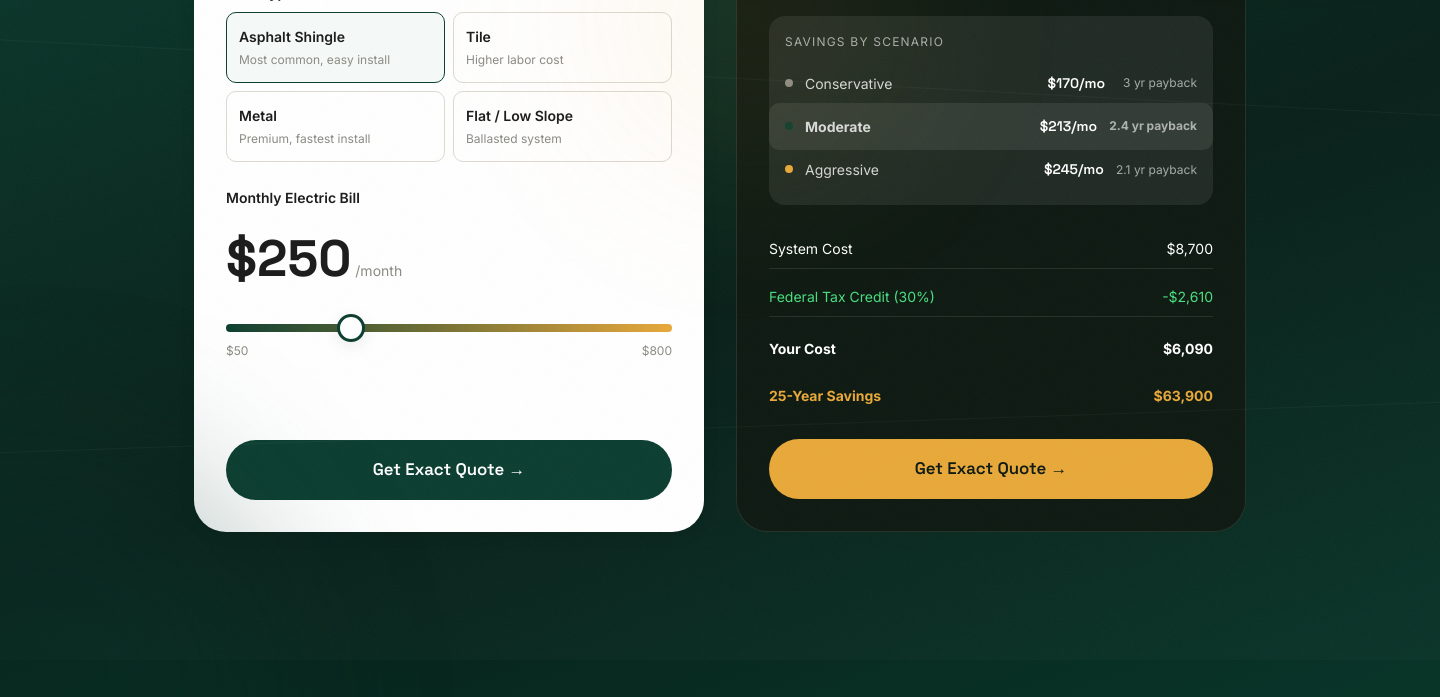
QuoteEstimator › updates estimate when slider changes
The image size is (1440, 697).
(page scrolled)
Set the slider to "400": (435, 328) [226, 324, 672, 332]
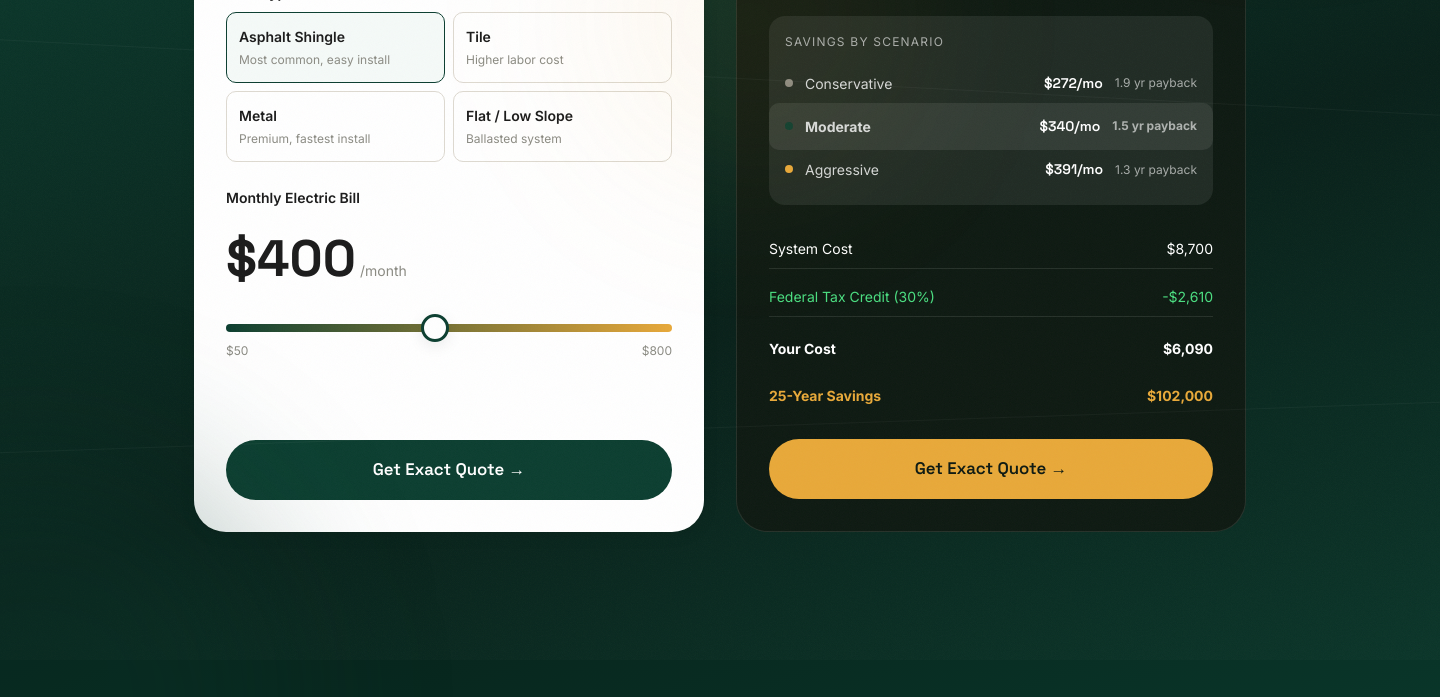
Check: the text "$400" is shown, box [226, 217, 356, 301]
